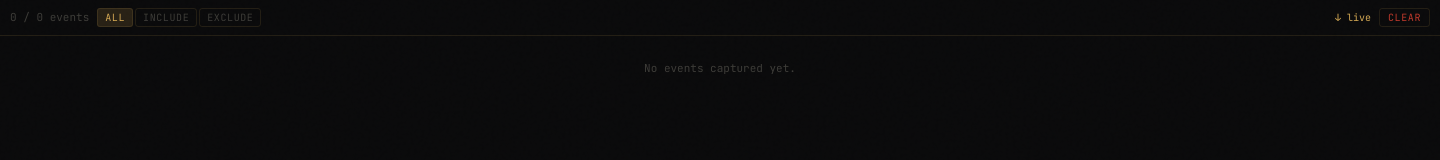
Test: WsDevtools › exclude mode shows filter input
Click the button with test id "filter-mode-exclude" at (230, 18), box [199,8,262,27]
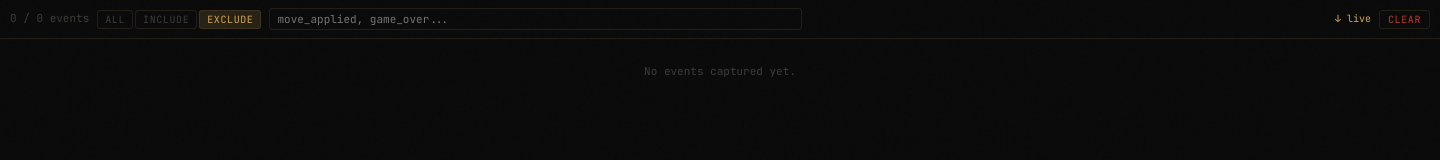
Result: the field with test id "filter-input" is shown at [270,8,802,30]
